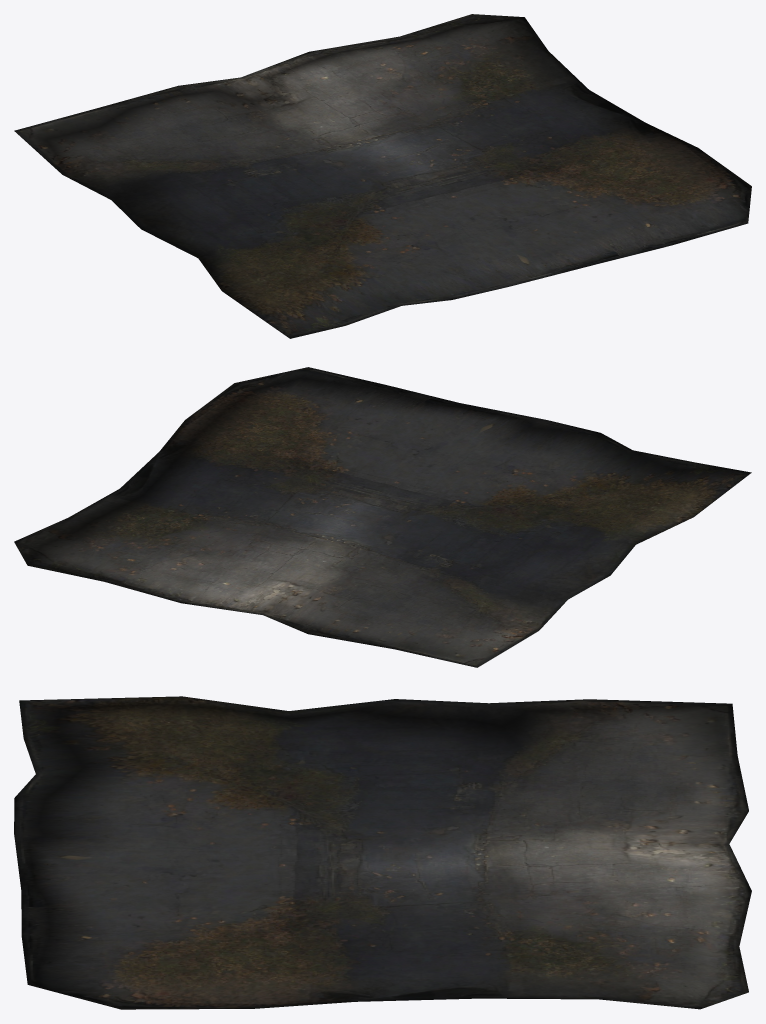
File: streetA.glb
The picture shows the model from 3 angles, top to bottom: view 1: azimuth 30°, elevation 25°; view 2: azimuth 150°, elevation 25°; view 3: azimuth 270°, elevation 25°; orthographic projection. The views are drawn at different scales.
Size of the model in its own units: 2 by 0.018 by 1.99.
Materials: 1 (1 with a texture image).
